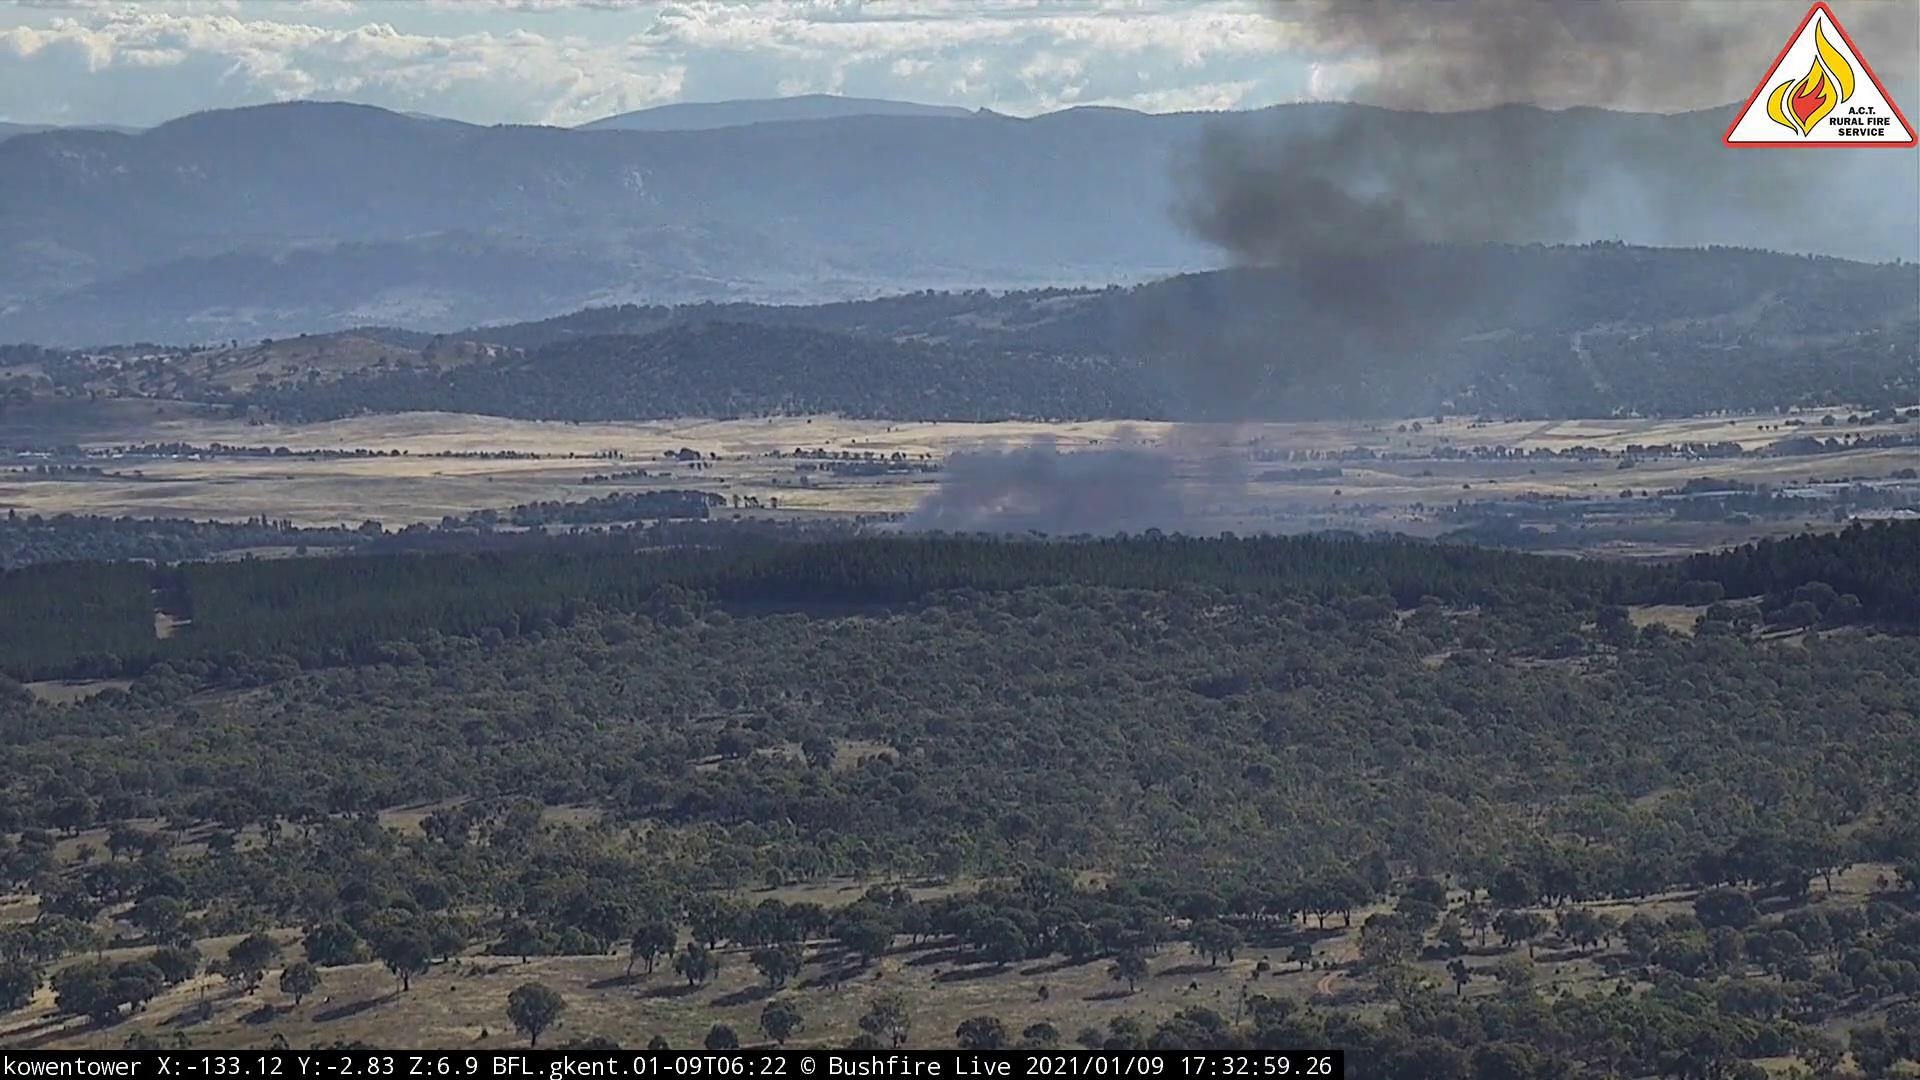Smoke: (886, 3, 1717, 553)
